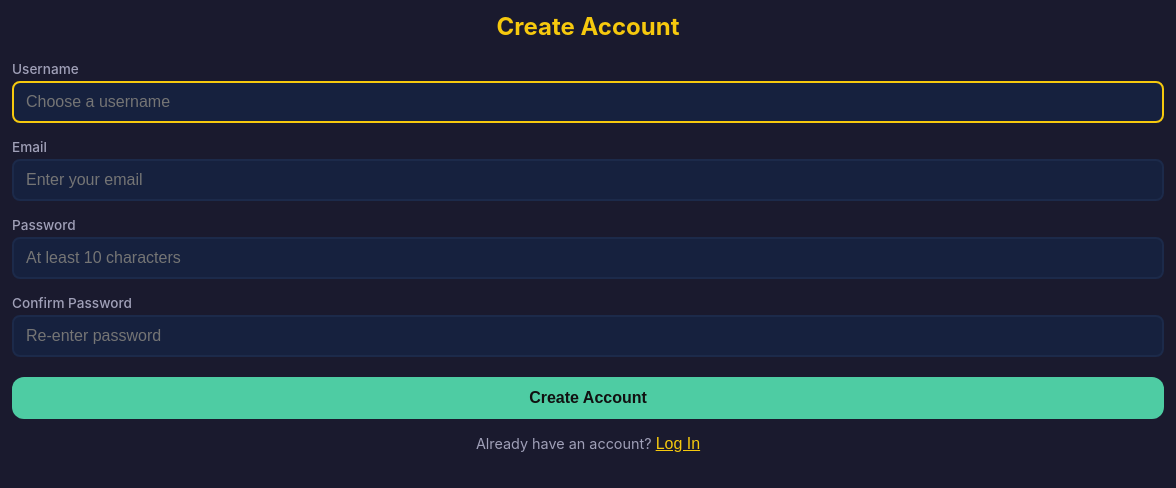
Test: RegisterForm › shows validation error on email blur with invalid value
Type "notanemail" into the field labelled "Email" at (588, 180), box [12,159,1164,201]
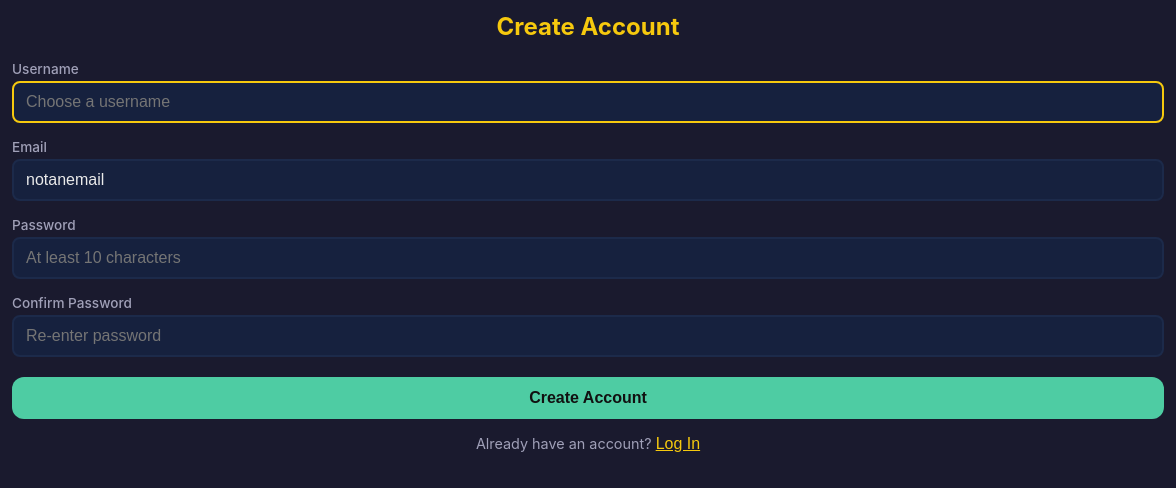
Leave the field labelled "Email", box [12,159,1164,201]
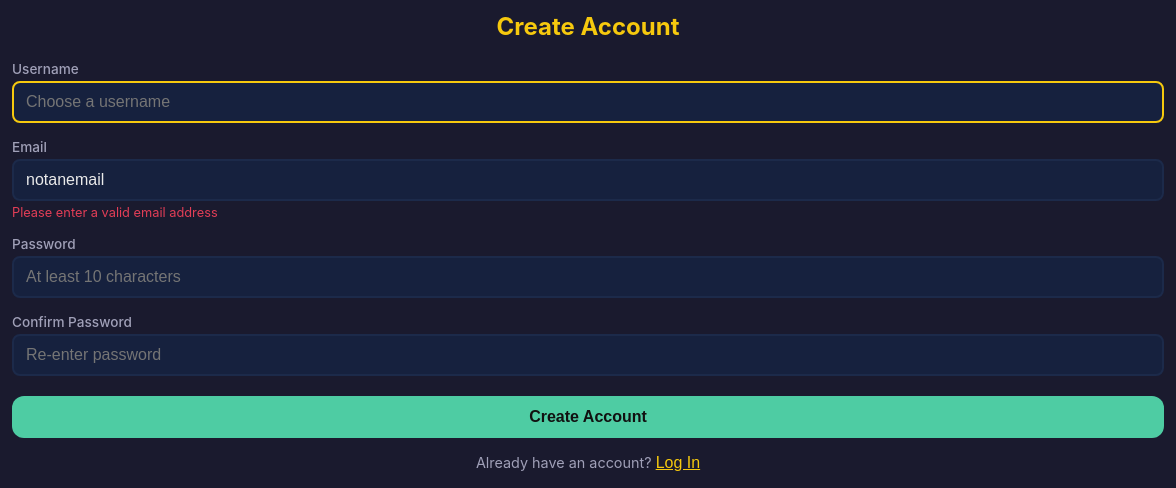
Expected: the text "Please enter a valid email address" is shown, [12,205,218,220]
